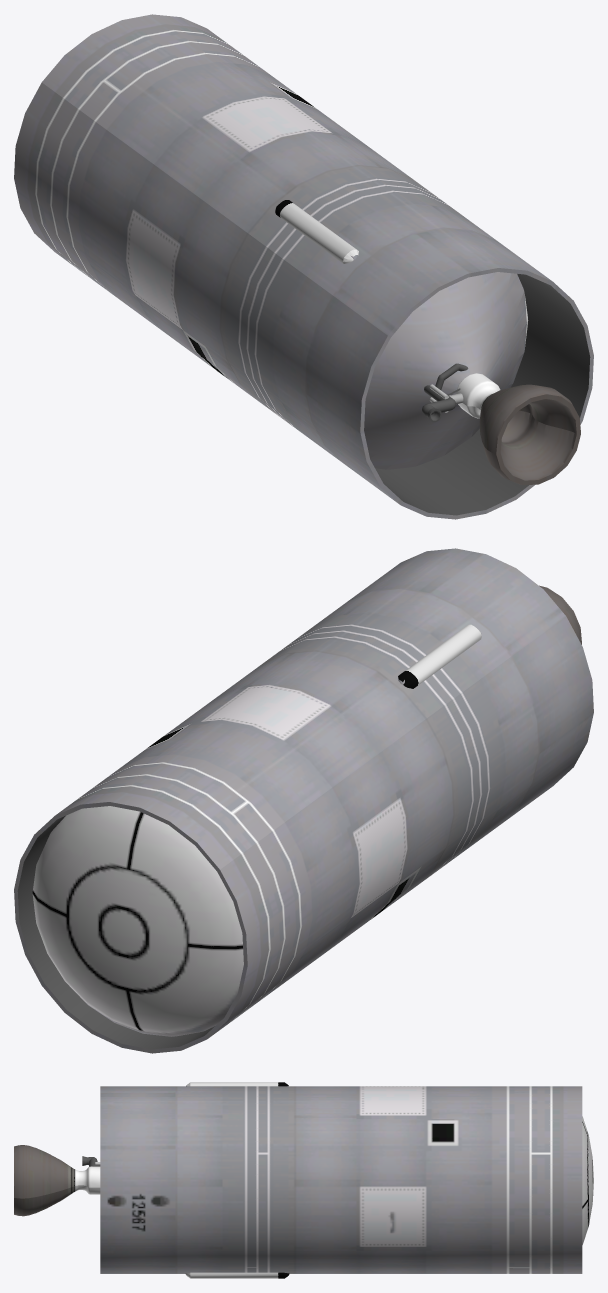
Rendered from titan22.obj.
The picture shows the model from 3 angles, top to bottom: view 1: azimuth 30°, elevation 25°; view 2: azimuth 150°, elevation 25°; view 3: azimuth 270°, elevation 25°; orthographic projection. The views are drawn at different scales.
Visible parts, largest first — view 1: group1, group0, group11, group3, group4, group12; view 2: group1, group2, group11, group4; view 3: group1, group3, group2, group5, group4.
Boxes of the visible parts, x1=… form: group1: x1=14, y1=14, x2=593, y2=519; group0: x1=364, y1=272, x2=528, y2=469; group11: x1=375, y1=274, x2=590, y2=515; group3: x1=456, y1=373, x2=580, y2=485; group4: x1=275, y1=200, x2=358, y2=263; group12: x1=422, y1=385, x2=455, y2=422; group1: x1=14, y1=548, x2=593, y2=1053; group2: x1=32, y1=806, x2=243, y2=1036; group11: x1=17, y1=816, x2=214, y2=1049; group4: x1=398, y1=624, x2=481, y2=688; group1: x1=100, y1=1086, x2=582, y2=1273; group3: x1=14, y1=1145, x2=100, y2=1216; group2: x1=582, y1=1116, x2=593, y2=1244; group5: x1=185, y1=1272, x2=289, y2=1278; group4: x1=186, y1=1082, x2=288, y2=1086.
Bounding box in the file's own units: 3.09 × 3.09 × 9.54.
Materials: 6 (2 with a texture image).
